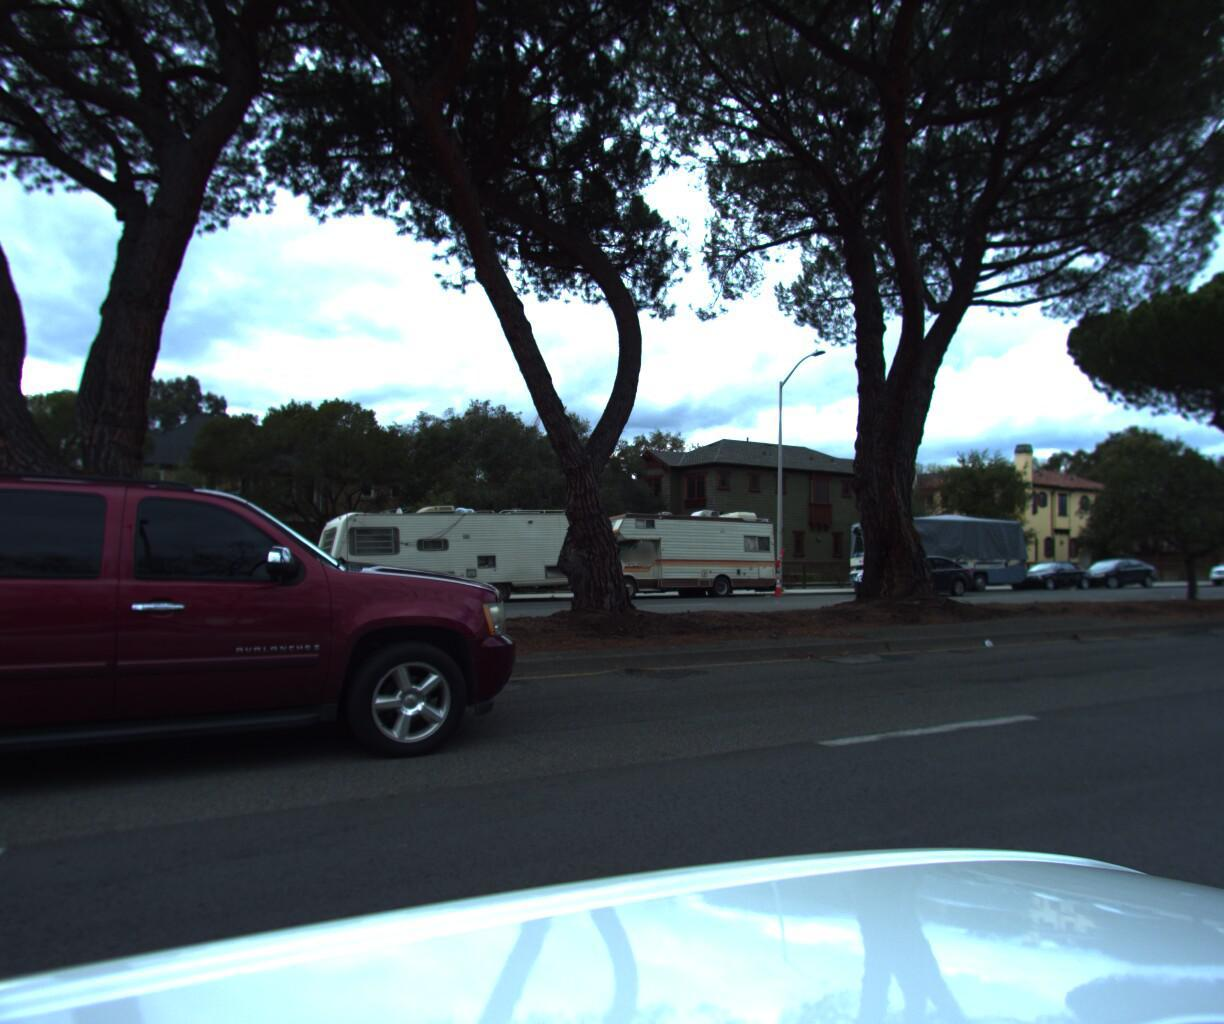car: (841, 546, 975, 596), (1061, 562, 1157, 594), (1000, 565, 1093, 597), (1192, 557, 1224, 591)
other_vehicle: (280, 500, 605, 619), (571, 507, 785, 608), (835, 515, 1032, 599)
